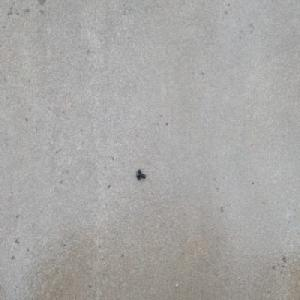BoltWasher: (135, 168, 146, 181)
